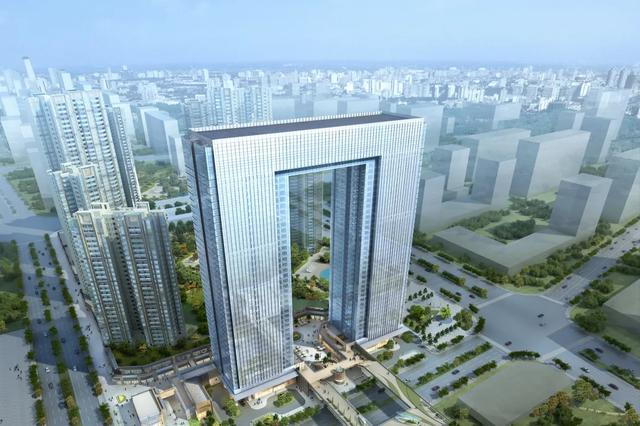buildings: (167, 83, 424, 376), (69, 174, 177, 343), (144, 68, 388, 132), (42, 82, 138, 242)
